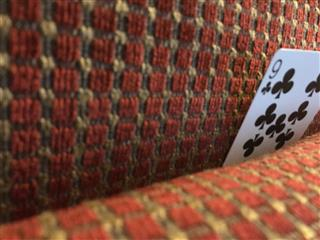NineOfClubs: (221, 47, 320, 167)
